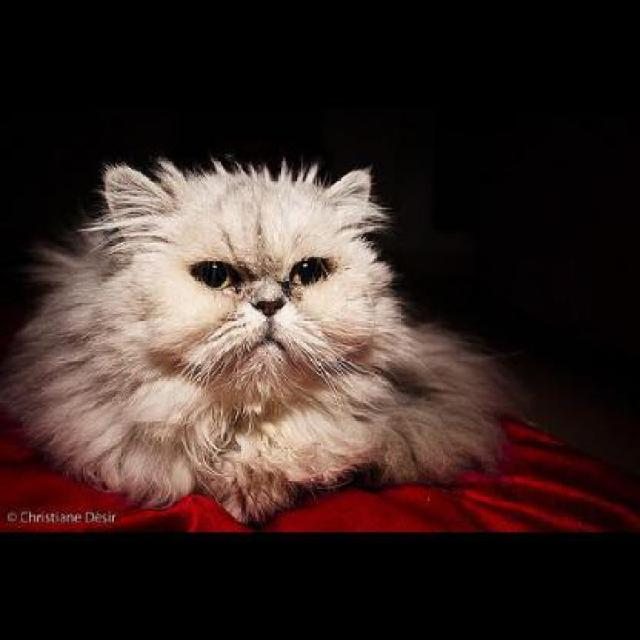unauthorized: (0, 153, 523, 524)
